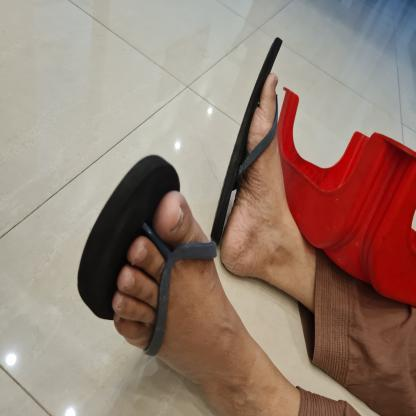leg: (70, 145, 300, 416), (215, 34, 315, 309)
